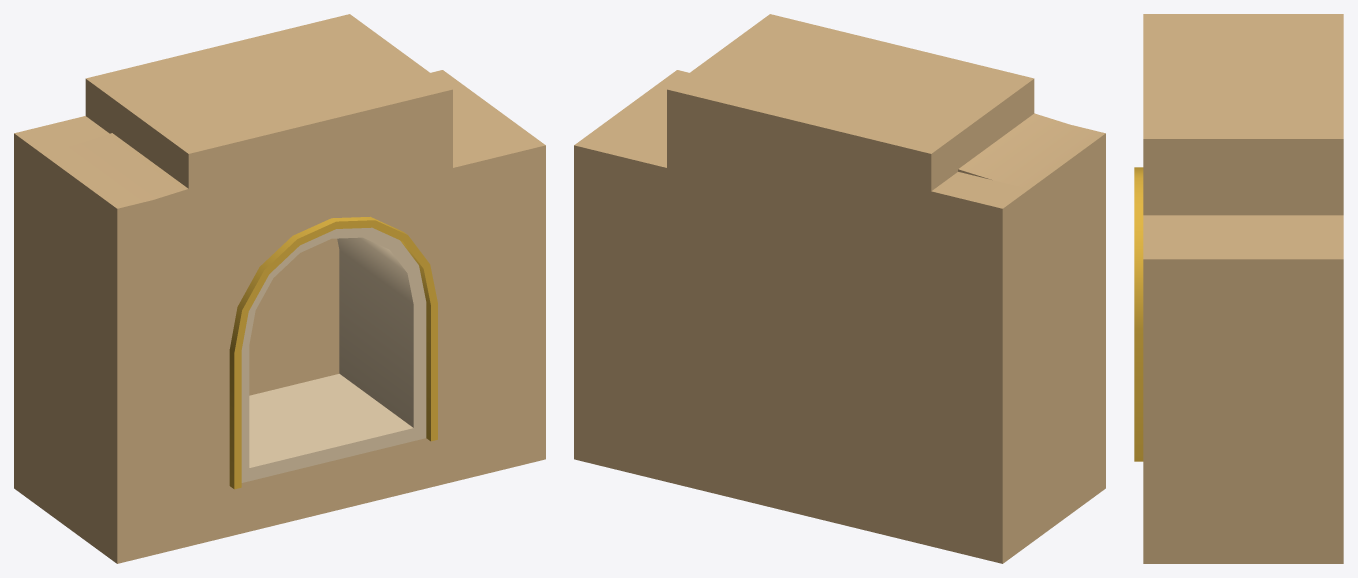
File: wall-niche.lod1.glb
3 renders of one model, left to right at view 1: azimuth 30°, elevation 25°; view 2: azimuth 150°, elevation 25°; view 3: azimuth 270°, elevation 25°, orthographic. The views are drawn at different scales.
Visible parts, largest first — view 1: wall-niche_lod1; view 2: wall-niche_lod1; view 3: wall-niche_lod1.
Part boxes in pixels (bbox=[...]): wall-niche_lod1: bbox=[14, 14, 545, 563]; wall-niche_lod1: bbox=[574, 14, 1105, 563]; wall-niche_lod1: bbox=[1134, 14, 1343, 563].
Bounding box in the file's own units: 1.2 × 1.05 × 0.5225.
